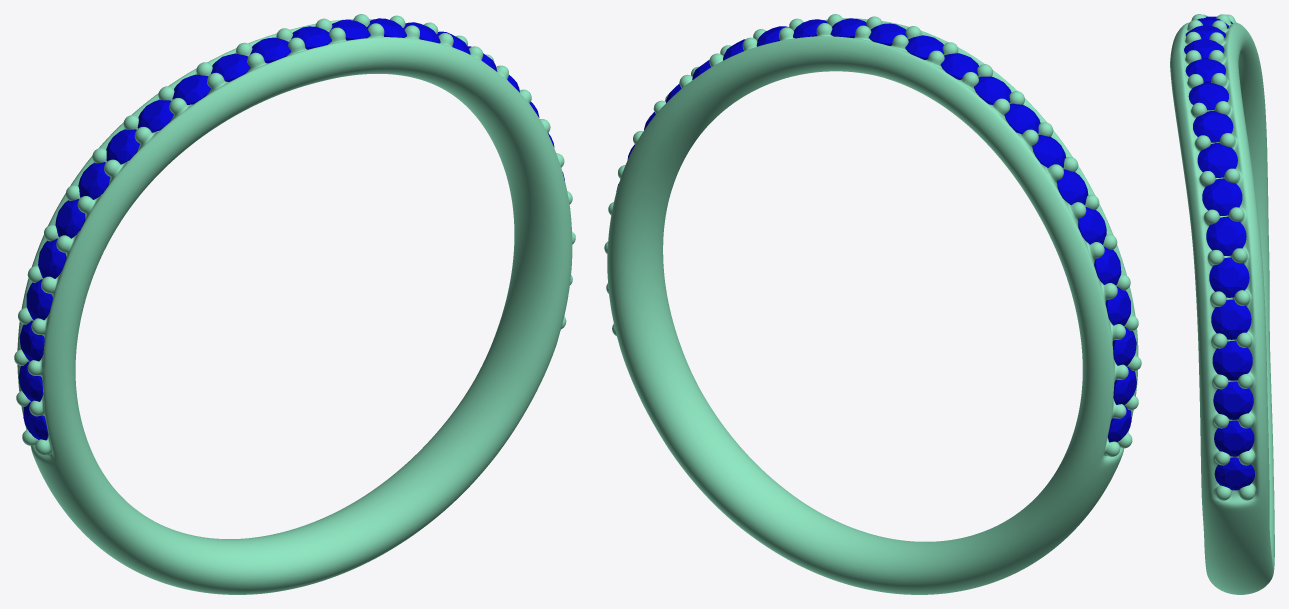
The picture shows the model from 3 angles, left to right: view 1: azimuth 30°, elevation 25°; view 2: azimuth 150°, elevation 25°; view 3: azimuth 270°, elevation 25°; orthographic projection. The views are drawn at different scales.
Parts seen in each view (by area): view 1: Metal03, Diamond_Band.019, Diamond_Band.020, Diamond_Band.018, Diamond_Band.021, Diamond_Band.017, Diamond_Band.022, Diamond_Band.016, Diamond_Band.023; view 2: Metal03, Diamond_Band.020, Diamond_Band.019, Diamond_Band.018, Diamond_Band.021, Diamond_Band.017, Diamond_Band.022, Diamond_Band.016, Diamond_Band.023; view 3: Metal03, Diamond_Band.008, Diamond_Band.007, Diamond_Band.009, Diamond_Band.006, Diamond_Band.010, Diamond_Band.005, Diamond_Band.011, Diamond_Band.004, Diamond_Band.012, Diamond_Band.003, Diamond_Band.002 (+3 smaller).
Boxes of the visible parts, <box> form: Metal03: <box>14,14,575,594</box>; Diamond_Band.019: <box>78,162,110,199</box>; Diamond_Band.020: <box>106,129,140,164</box>; Diamond_Band.018: <box>55,199,85,238</box>; Diamond_Band.021: <box>137,99,173,132</box>; Diamond_Band.017: <box>38,238,66,278</box>; Diamond_Band.022: <box>172,74,210,104</box>; Diamond_Band.016: <box>26,279,52,320</box>; Diamond_Band.023: <box>210,53,250,81</box>; Metal03: <box>604,14,1141,594</box>; Diamond_Band.020: <box>1032,134,1066,167</box>; Diamond_Band.019: <box>1057,169,1088,204</box>; Diamond_Band.018: <box>1078,207,1106,244</box>; Diamond_Band.021: <box>1004,103,1040,134</box>; Diamond_Band.017: <box>1094,246,1121,285</box>; Diamond_Band.022: <box>974,76,1011,104</box>; Diamond_Band.016: <box>1105,286,1130,325</box>; Diamond_Band.023: <box>940,53,978,79</box>; Metal03: <box>1170,14,1274,594</box>; Diamond_Band.008: <box>1211,299,1251,339</box>; Diamond_Band.007: <box>1209,257,1249,297</box>; Diamond_Band.009: <box>1212,341,1252,380</box>; Diamond_Band.006: <box>1206,217,1246,255</box>; Diamond_Band.010: <box>1213,381,1253,419</box>; Diamond_Band.005: <box>1202,178,1242,215</box>; Diamond_Band.011: <box>1214,420,1254,456</box>; Diamond_Band.004: <box>1197,143,1237,177</box>; Diamond_Band.012: <box>1214,457,1254,490</box>; Diamond_Band.003: <box>1193,111,1233,142</box>; Diamond_Band.002: <box>1188,82,1228,110</box>.
Size of the model in its own units: 20.97 by 20.89 by 3.78.
